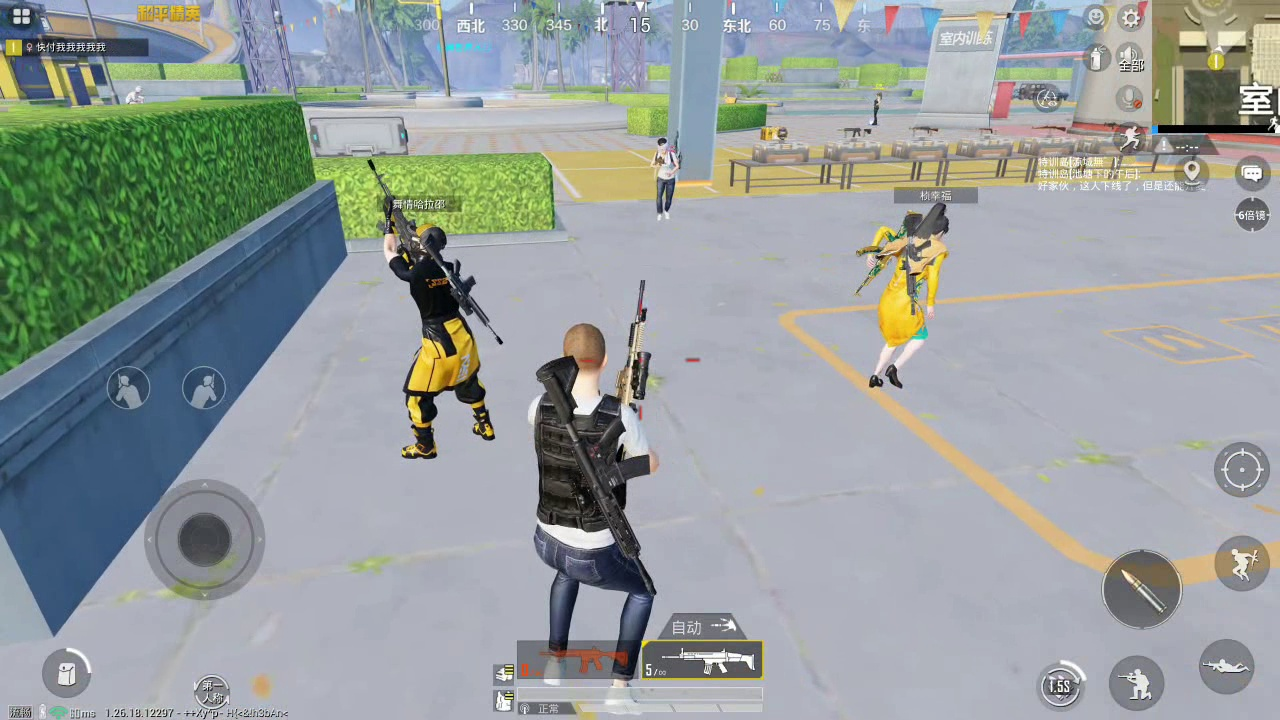enemy: (383, 218, 500, 455), (863, 201, 948, 391), (652, 137, 680, 224)
